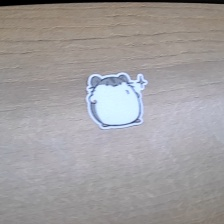mouse: (84, 71, 151, 132)
